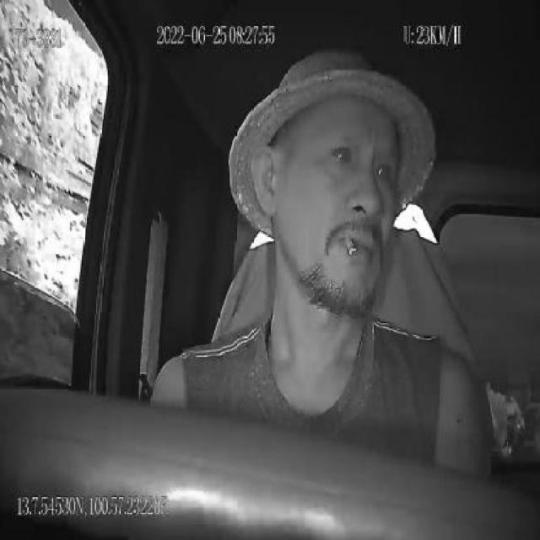smoking: (342, 235, 357, 259)
